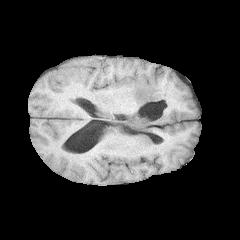glioma: (126, 78, 168, 131)
